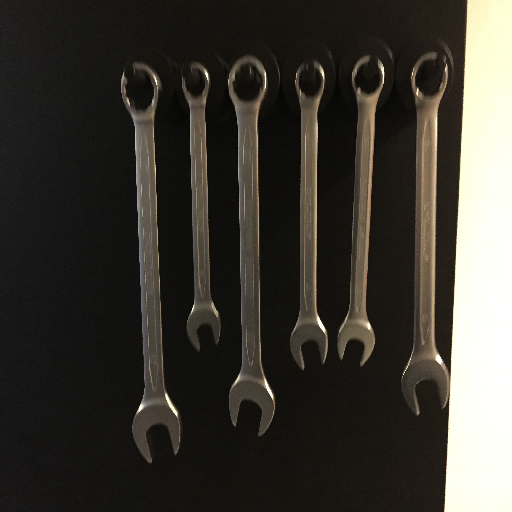bottom: (125, 403, 187, 467), (397, 350, 451, 417), (224, 374, 279, 437), (285, 316, 330, 372), (335, 317, 378, 370), (185, 306, 224, 352)
top: (117, 61, 166, 119), (226, 52, 269, 108), (408, 50, 450, 102), (350, 54, 387, 105), (293, 54, 326, 105), (176, 59, 211, 104)
